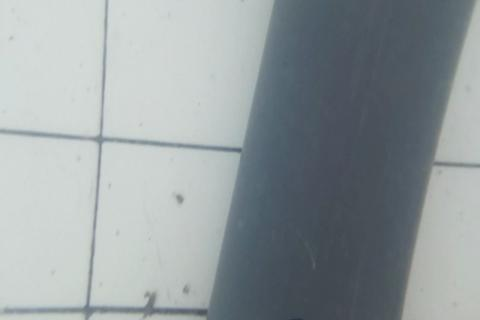kebocoran: (280, 315, 312, 320)
